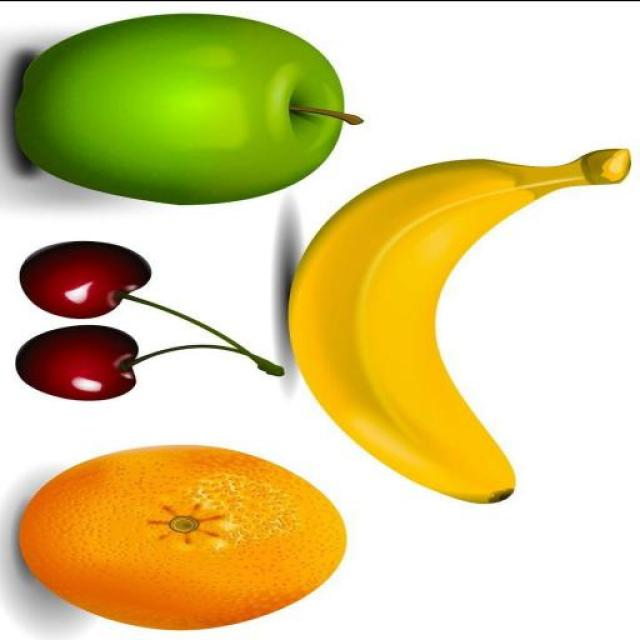2: (18, 443, 344, 629)
Apple: (14, 12, 363, 204)
Banana: (288, 148, 630, 503)
